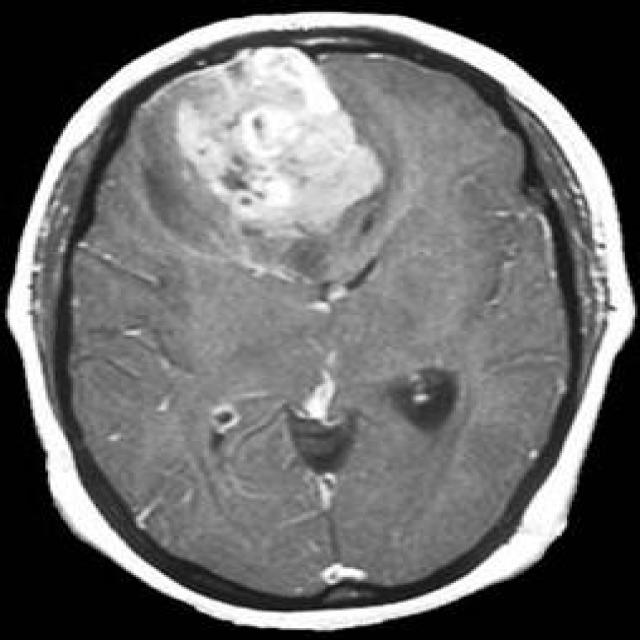Tumor-Cell: (117, 28, 418, 235)
